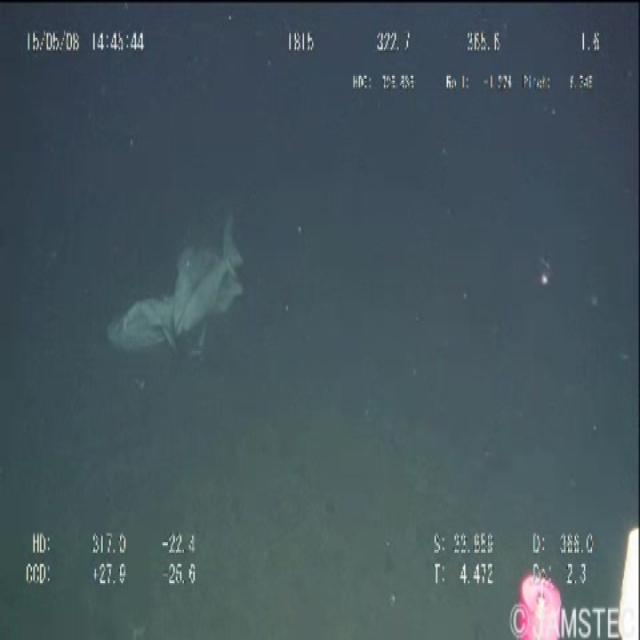Plastic: (95, 176, 261, 414)
